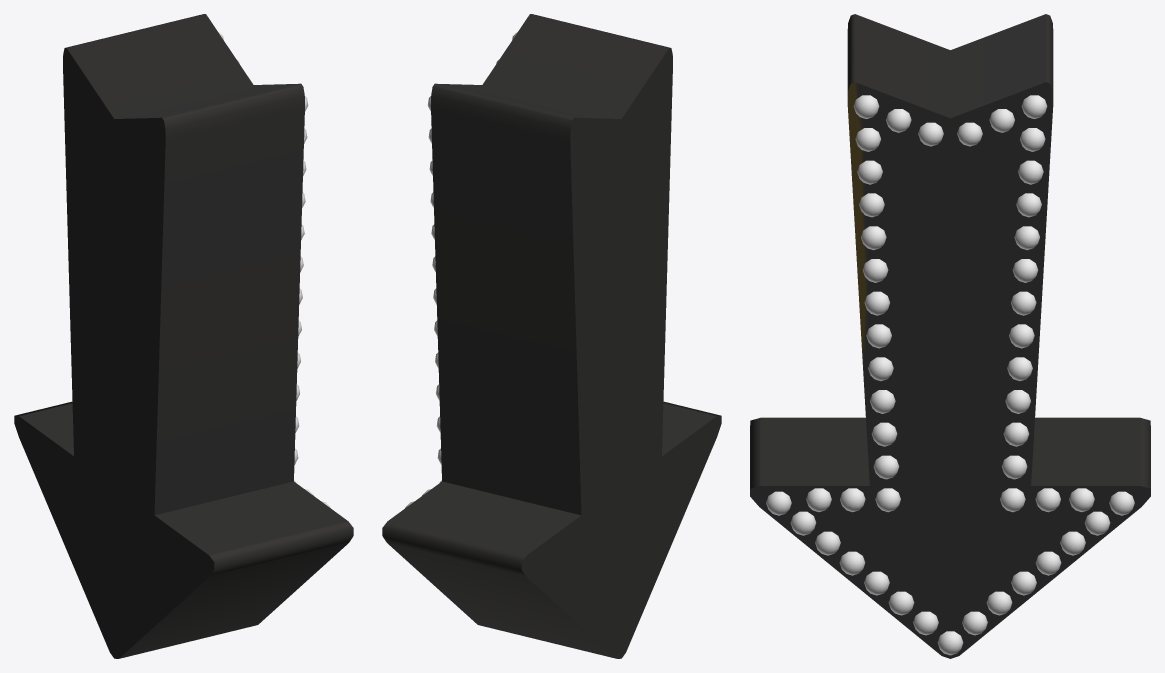
The model's file is SAPS_Arrow.fbx.
3 views of the same model, side by side, from view 1: azimuth 30°, elevation 25°; view 2: azimuth 150°, elevation 25°; view 3: azimuth 270°, elevation 25° (orthographic).
Parts seen in each view (by area): view 1: Arrow; view 2: Arrow; view 3: Arrow.
Part boxes in pixels (x1=…): Arrow: x1=14, y1=14, x2=353, y2=658; Arrow: x1=382, y1=14, x2=721, y2=658; Arrow: x1=750, y1=14, x2=1150, y2=658.
Size of the model in its own units: 216 by 790 by 497.
